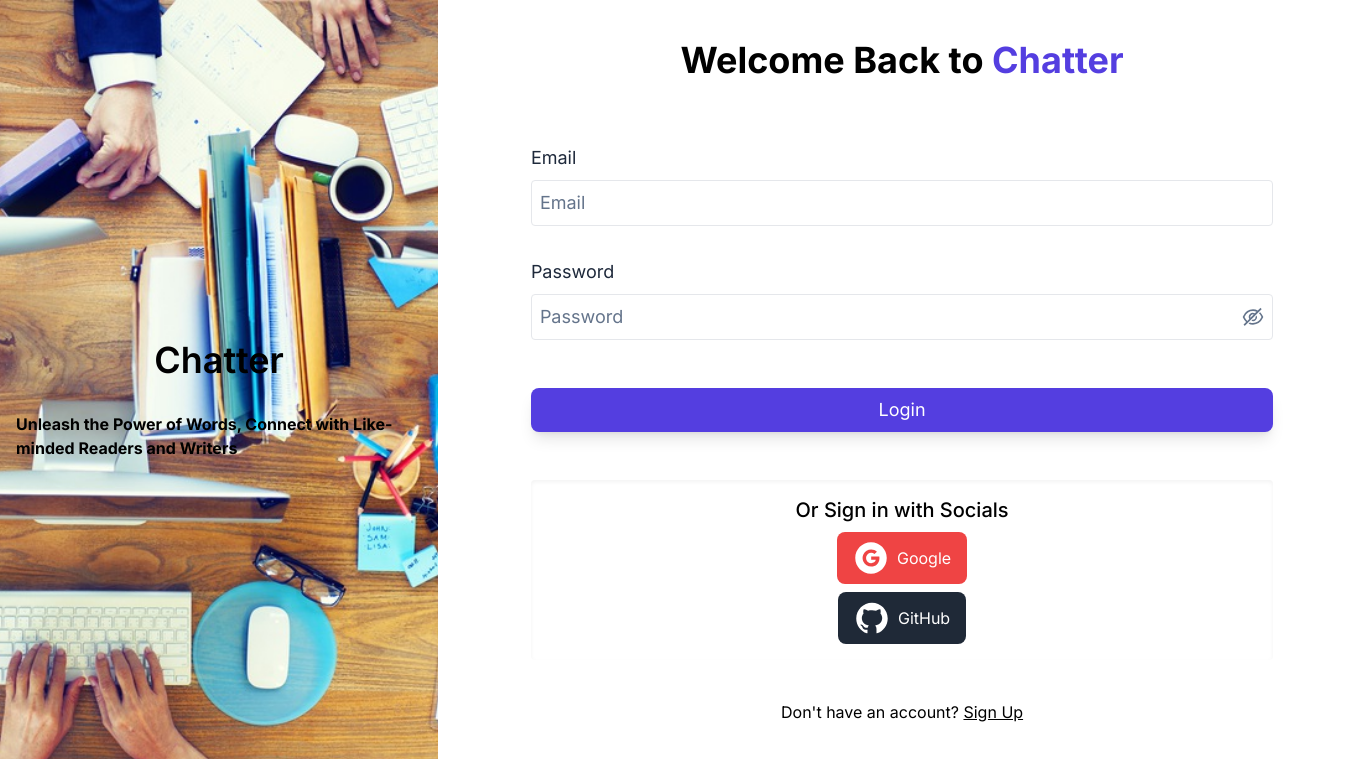
Scenario: login page › login functionality › login with invalid email
The image size is (1366, 759).
Type "test.com" into the field with id "email". click: (902, 203)
box: left=531, top=180, right=1273, bottom=226
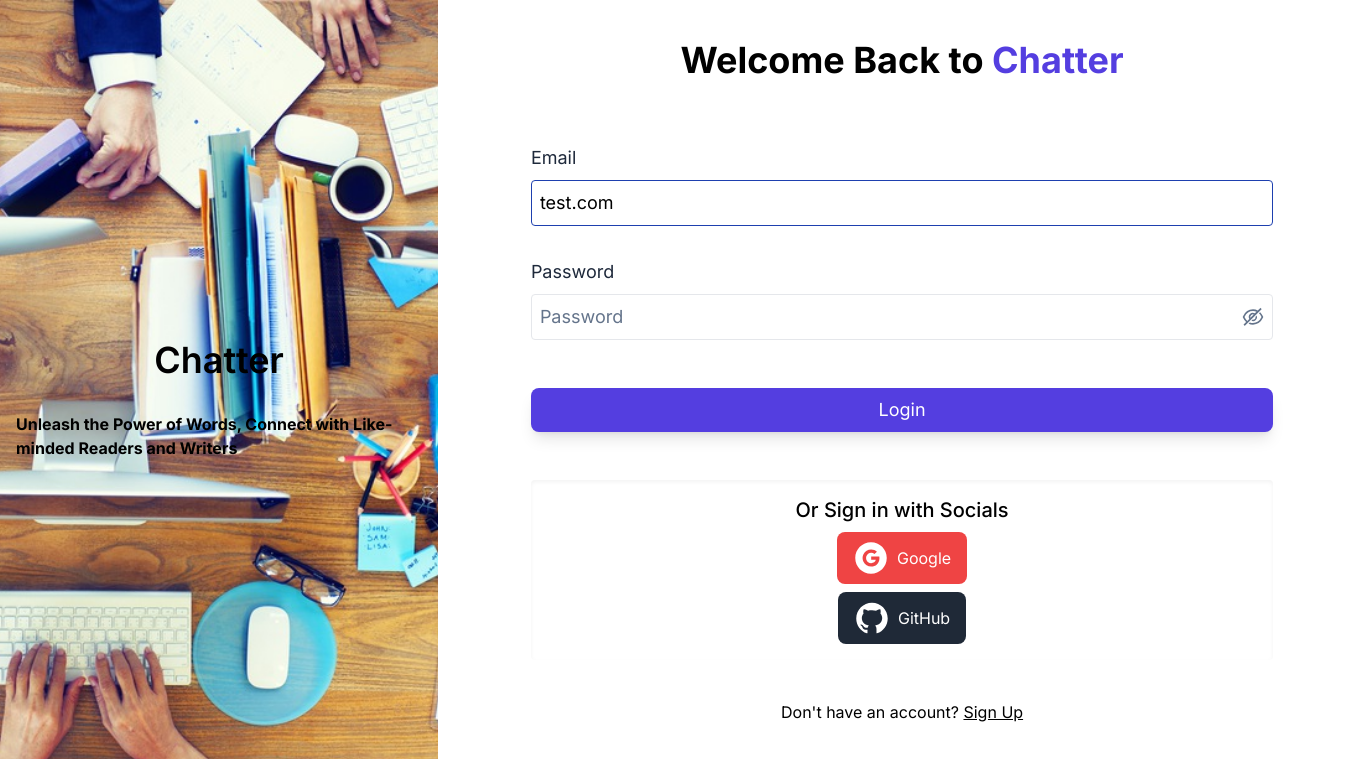
Click the button "Login". click: (902, 410)
box: left=531, top=388, right=1273, bottom=432
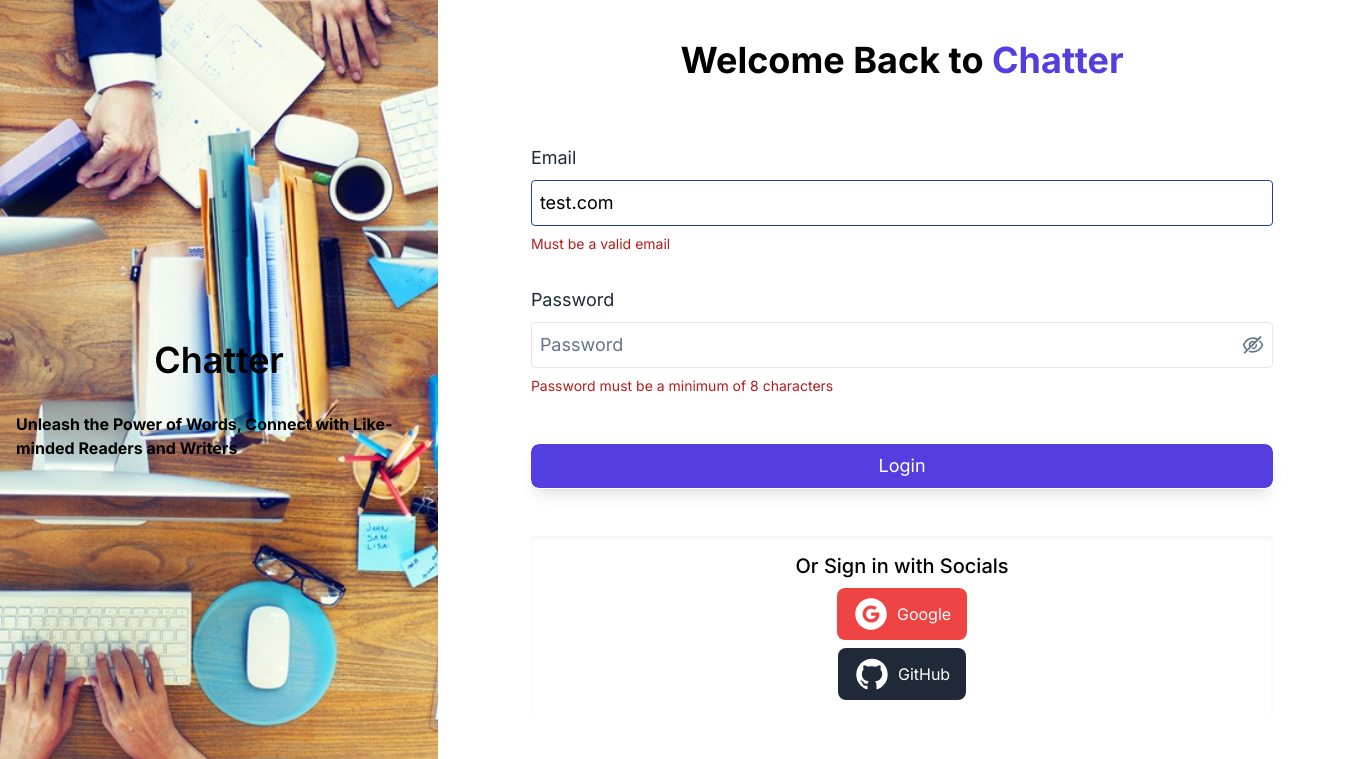
Result: the message "Must be a valid email" is shown at left=531, top=235, right=670, bottom=252
